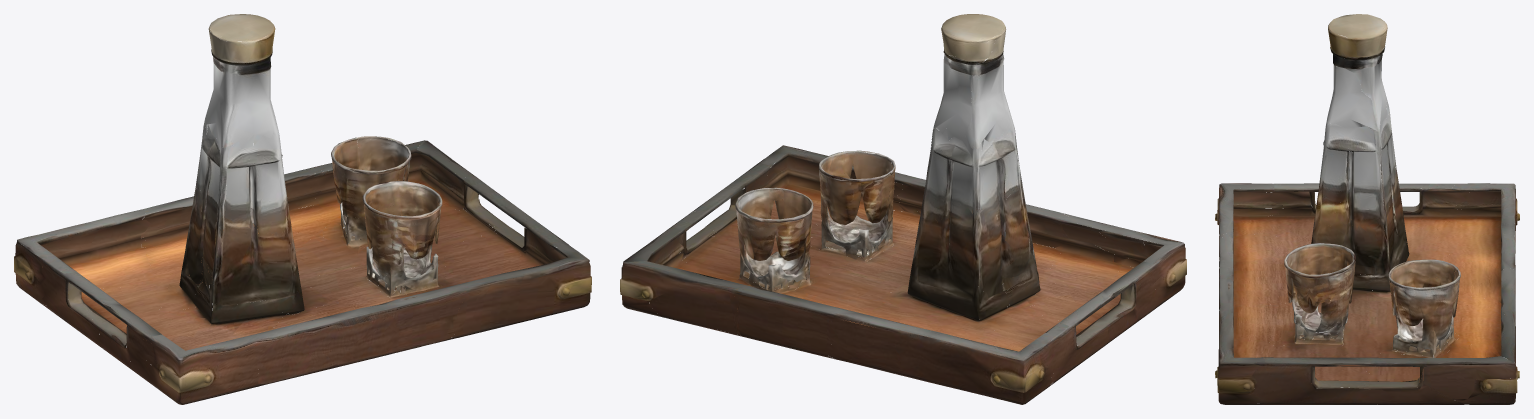
Rendered from water-service.glb.
3 renders of one model, left to right at view 1: azimuth 30°, elevation 25°; view 2: azimuth 150°, elevation 25°; view 3: azimuth 270°, elevation 25°, orthographic. The views are drawn at different scales.
Visible parts, largest first — view 1: tripo_node_f38a9dba-6c1a-4a76-9d42-bb89f6da3de2; view 2: tripo_node_f38a9dba-6c1a-4a76-9d42-bb89f6da3de2; view 3: tripo_node_f38a9dba-6c1a-4a76-9d42-bb89f6da3de2.
Part boxes in pixels (x1=…): tripo_node_f38a9dba-6c1a-4a76-9d42-bb89f6da3de2: x1=14, y1=14, x2=591, y2=404; tripo_node_f38a9dba-6c1a-4a76-9d42-bb89f6da3de2: x1=620, y1=14, x2=1186, y2=404; tripo_node_f38a9dba-6c1a-4a76-9d42-bb89f6da3de2: x1=1215, y1=14, x2=1519, y2=404.
Bounding box in the file's own units: 0.4997 × 0.3379 × 0.3498.
1 material, 1 textured.
